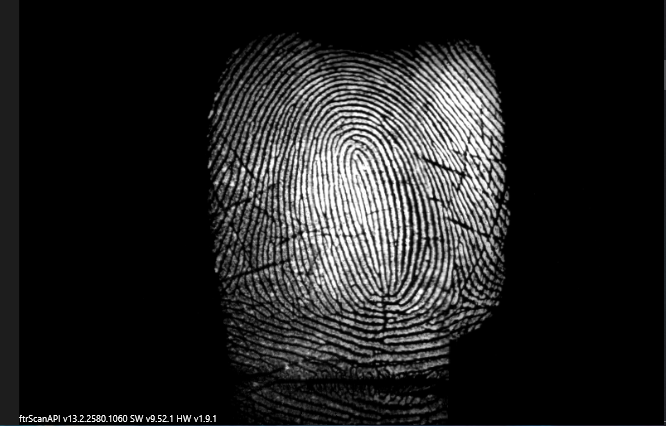deltas: (220, 252, 266, 315), (437, 280, 493, 320)
nucleo: (337, 135, 386, 196)
